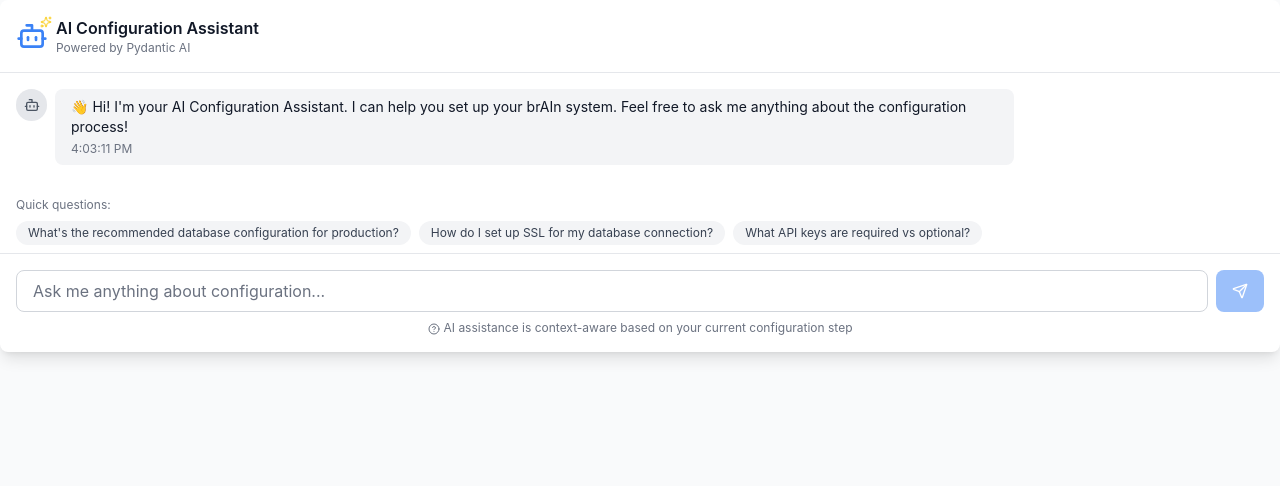
ConfigAssistant › Response Content › should provide database configuration help
Type "database" into the field with placeholder "Ask me anything about configuration...". click: point(612, 291)
box: [16,270,1208,312]
Then press Enter
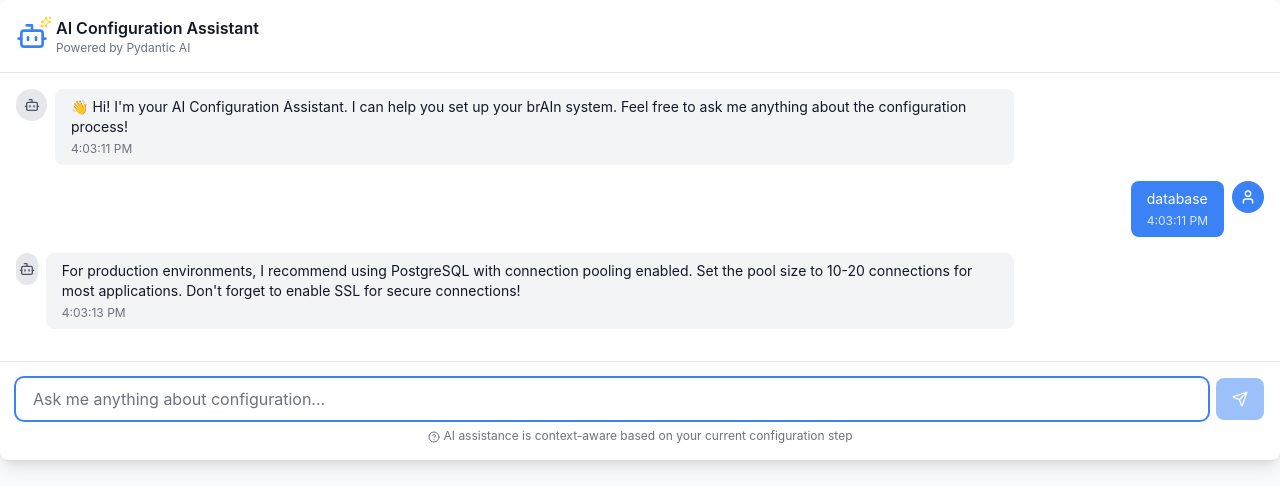
Result: the text "connection pooling" is shown at [62,262,976,299]
